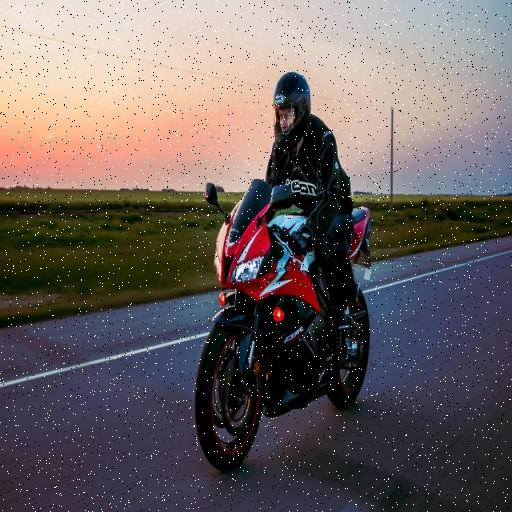Helmet: (273, 72, 311, 143)
Motor: (194, 166, 396, 472)
